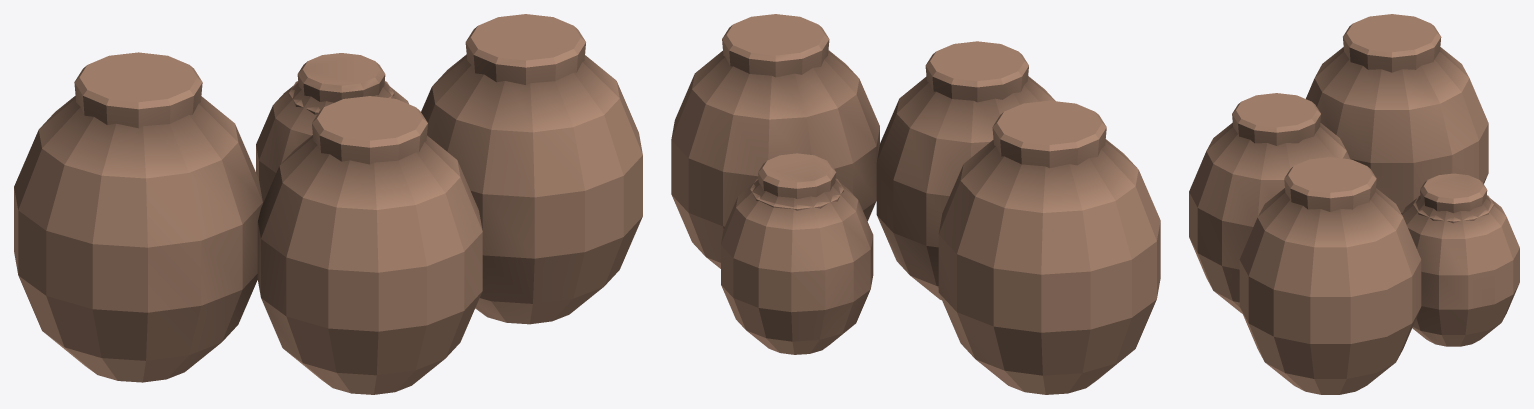
The model's file is p_jars.glb.
3 views of the same model, side by side, from view 1: azimuth 30°, elevation 25°; view 2: azimuth 150°, elevation 25°; view 3: azimuth 270°, elevation 25° (orthographic). The views are drawn at different scales.
Visible parts, largest first — view 1: jars; view 2: jars; view 3: jars.
Part boxes in pixels (x1,y1,x2,y2): jars: [14, 14, 642, 394]; jars: [671, 14, 1160, 394]; jars: [1189, 14, 1519, 394].
Bounding box in the file's own units: 1.28 × 0.6517 × 0.8602.
